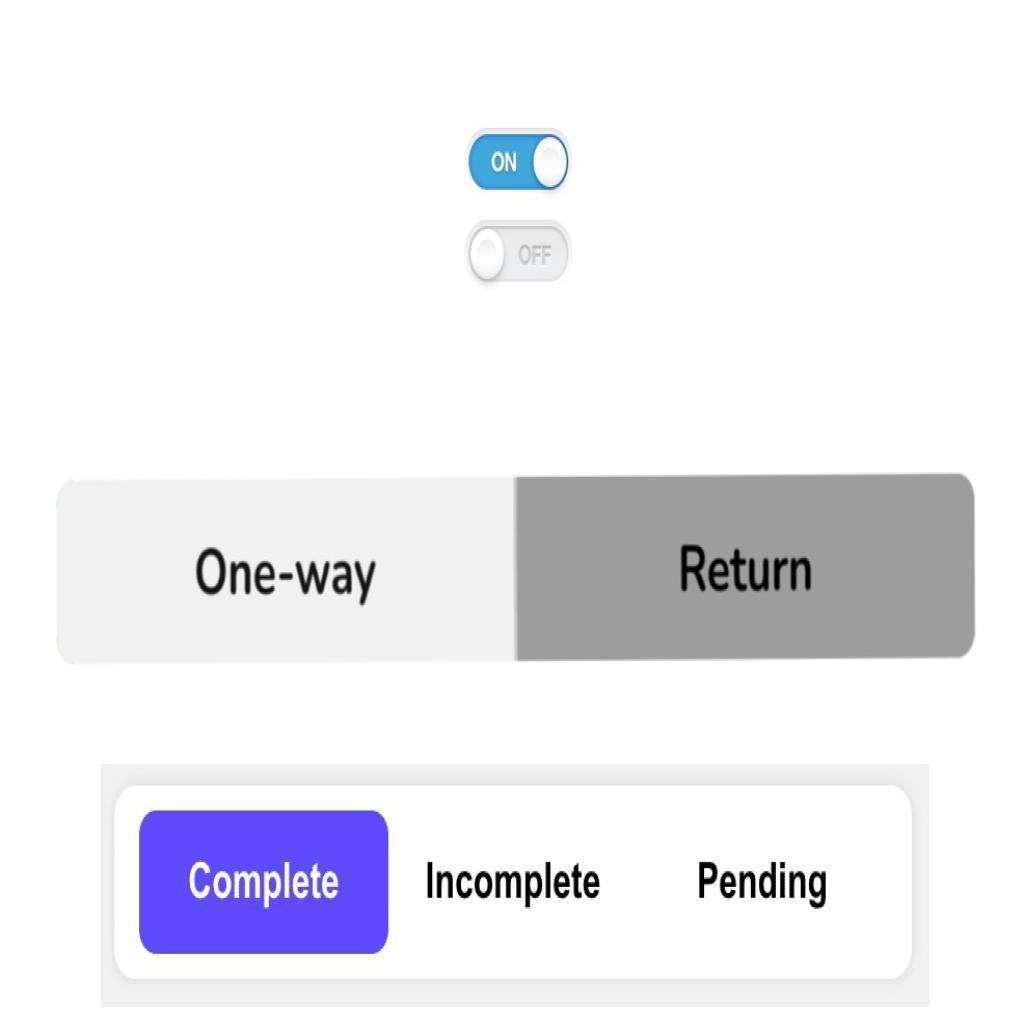button: (517, 477, 977, 661), (57, 482, 516, 660), (140, 811, 389, 955)
label: (421, 854, 608, 916), (694, 857, 831, 917)
switch: (469, 224, 573, 285), (469, 134, 572, 194)
